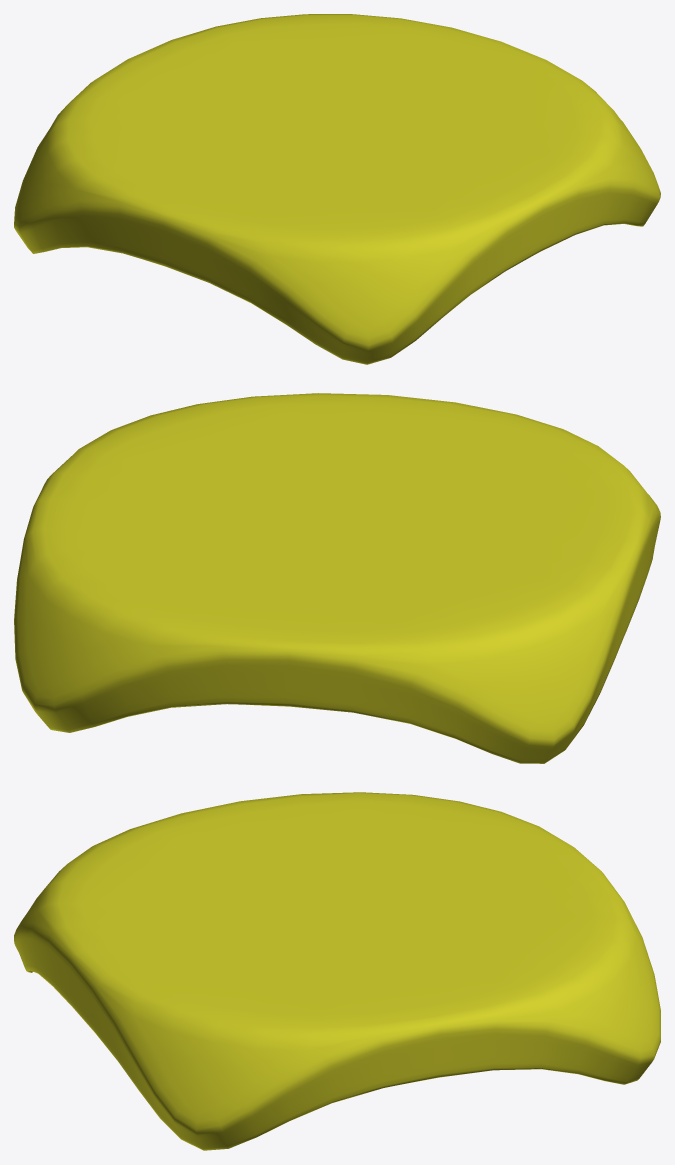
File: Cheese.fbx
The picture shows the model from 3 angles, top to bottom: view 1: azimuth 30°, elevation 25°; view 2: azimuth 150°, elevation 25°; view 3: azimuth 270°, elevation 25°; orthographic projection. The views are drawn at different scales.
Visible parts, largest first — view 1: Cheese; view 2: Cheese; view 3: Cheese.
Boxes of the visible parts, x1,y1,x2,y2 form: Cheese: [14, 14, 660, 364]; Cheese: [14, 393, 660, 763]; Cheese: [14, 792, 660, 1150].
Bounding box in the file's own units: 1203 × 238 × 1209.
